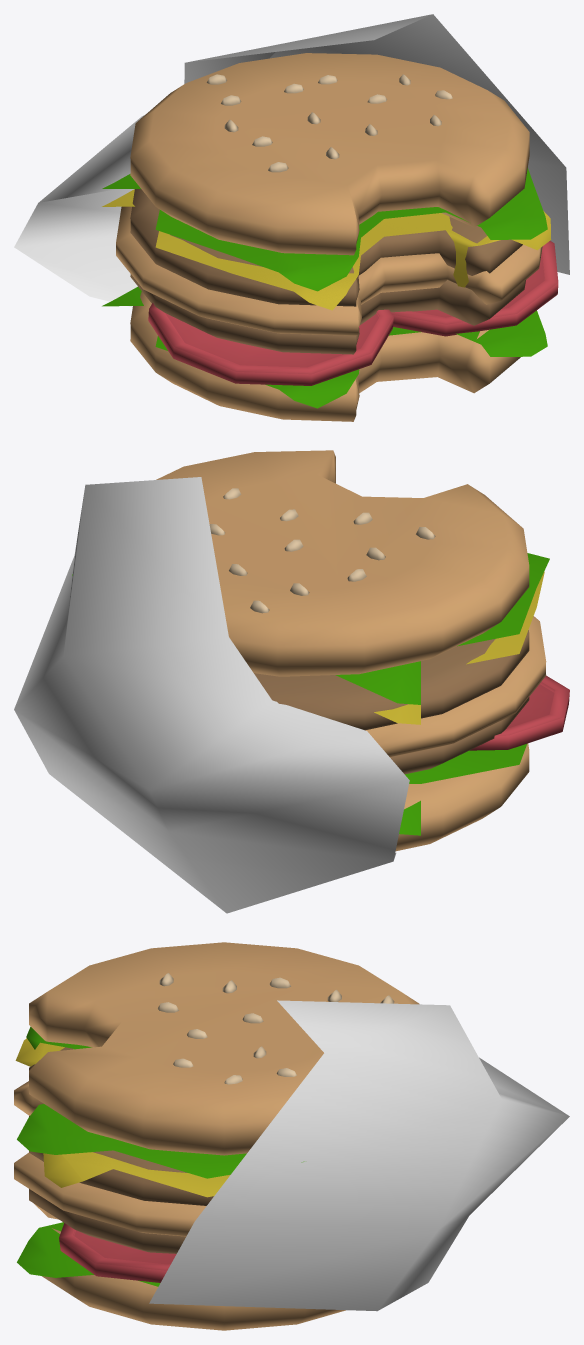
Rendered from Hamburger_low.fbx.
The picture shows the model from 3 angles, top to bottom: view 1: azimuth 30°, elevation 25°; view 2: azimuth 150°, elevation 25°; view 3: azimuth 270°, elevation 25°; orthographic projection. The views are drawn at different scales.
Parts seen in each view (by area): view 1: pSphere15; view 2: pSphere15; view 3: pSphere15.
Boxes of the visible parts, x1=… form: pSphere15: x1=14, y1=14, x2=569, y2=421; pSphere15: x1=14, y1=450, x2=569, y2=913; pSphere15: x1=14, y1=942, x2=569, y2=1330.
Bounding box in the file's own units: 116 × 83.44 × 127.
